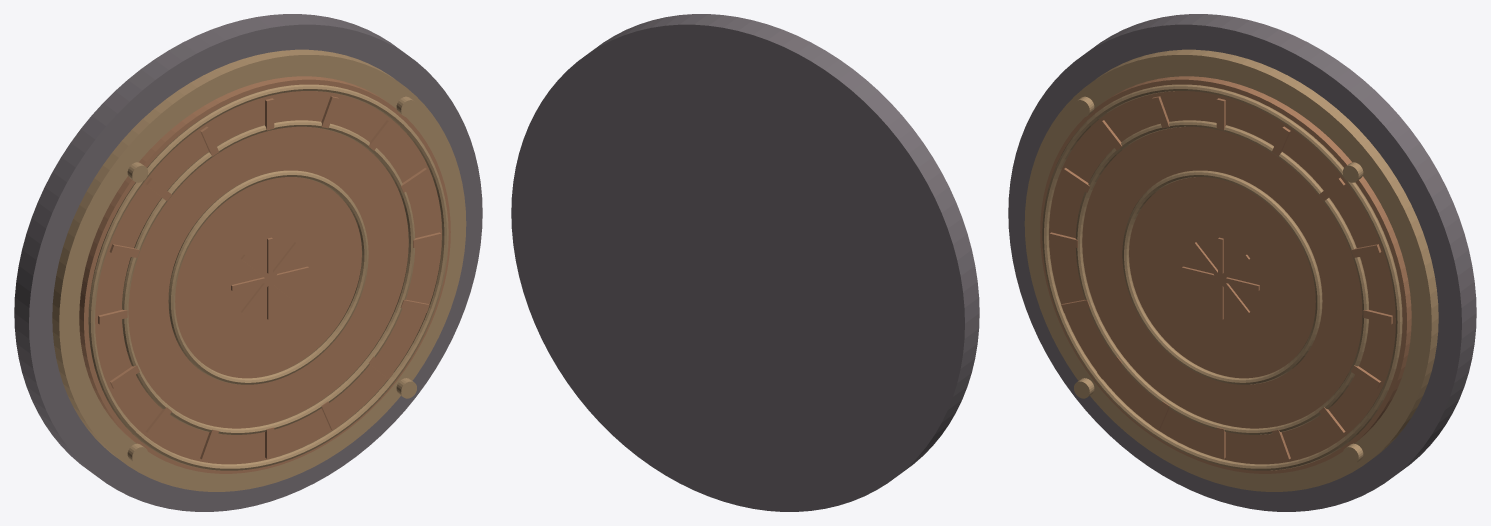
The model's file is dragon_relic_platform.glb.
3 renders of one model, left to right at view 1: azimuth 30°, elevation 25°; view 2: azimuth 150°, elevation 25°; view 3: azimuth 330°, elevation 25°, orthographic.
Parts seen in each view (by area): view 1: world; view 2: world; view 3: world.
Part boxes in pixels (x1,y1,x2,y2): world: (14, 14, 482, 511); world: (511, 14, 979, 511); world: (1008, 14, 1476, 511).
Size of the model in its own units: 6.8 by 6.8 by 0.87.
